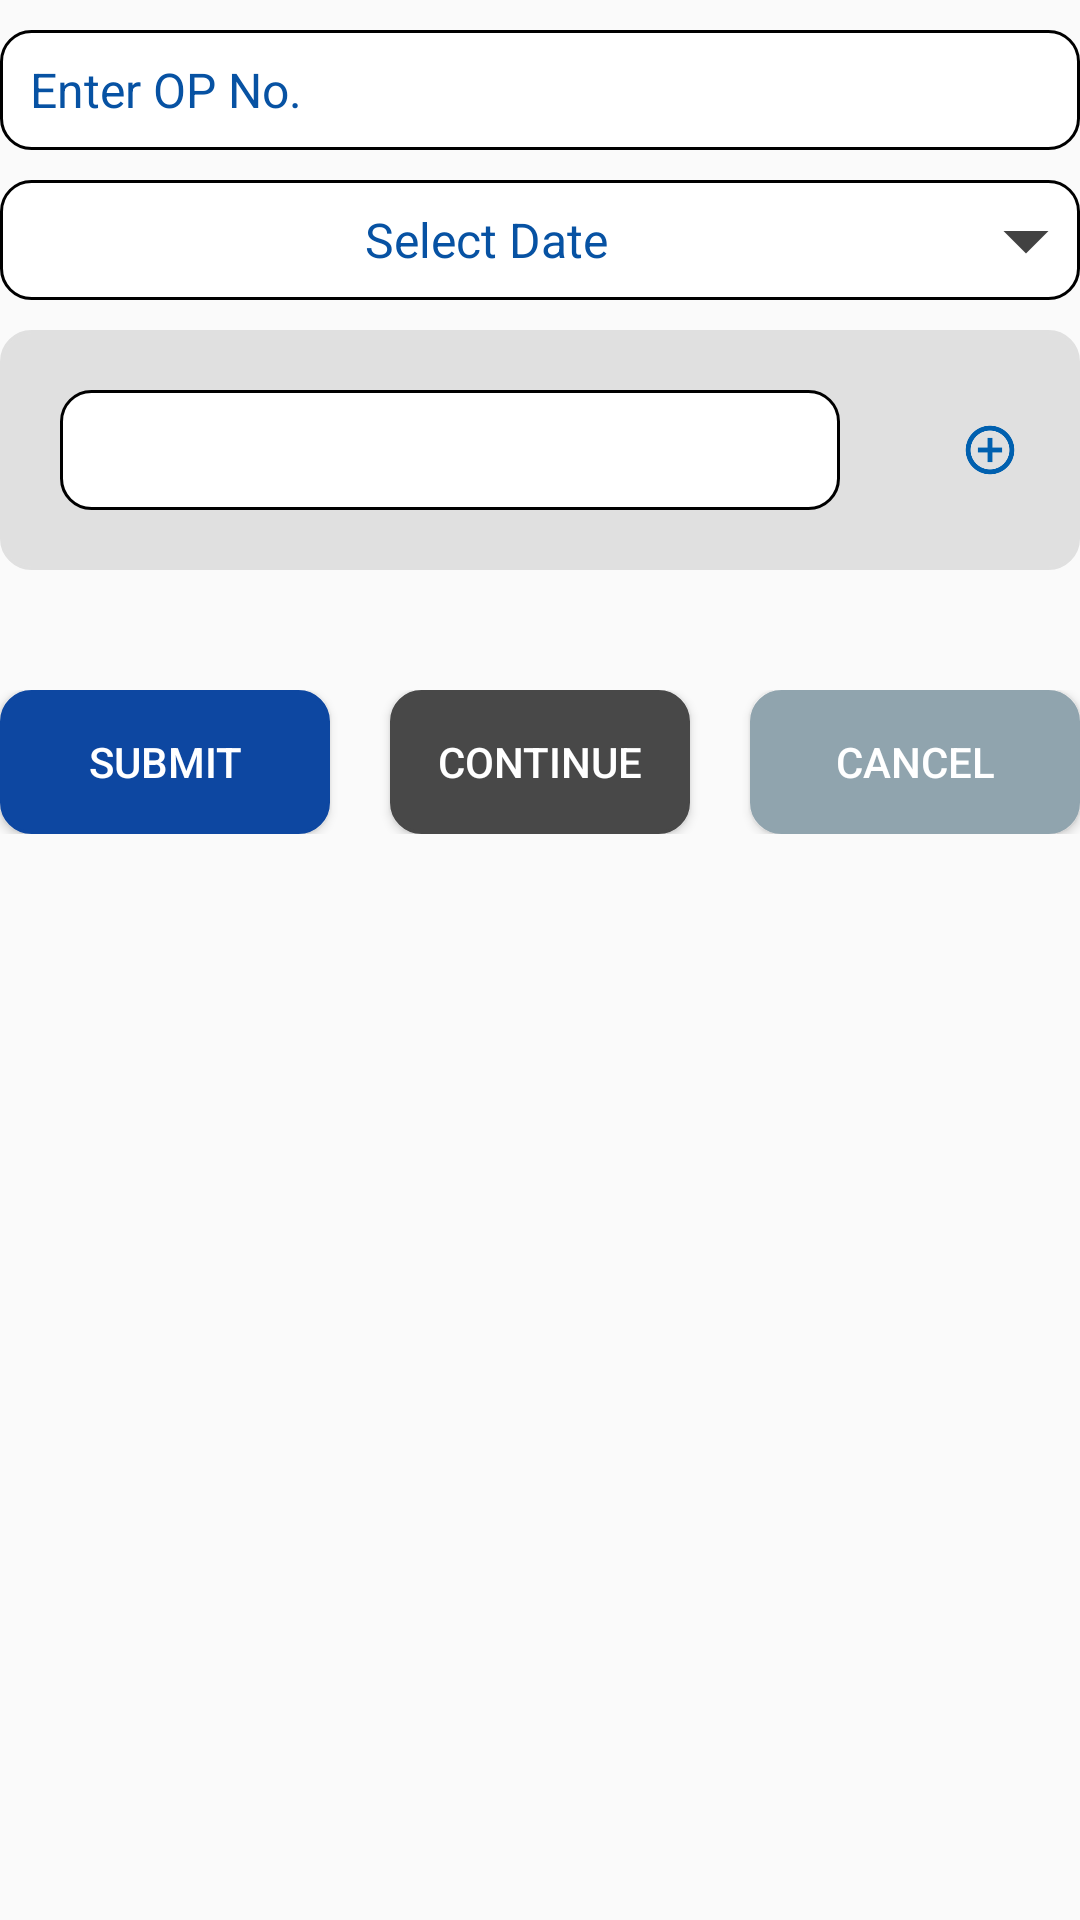

Locate icon controls on the screen. Image size 1080w x 1920h, boxes as (x1, y1, x2, y2).
add: (965, 425, 1015, 475)
